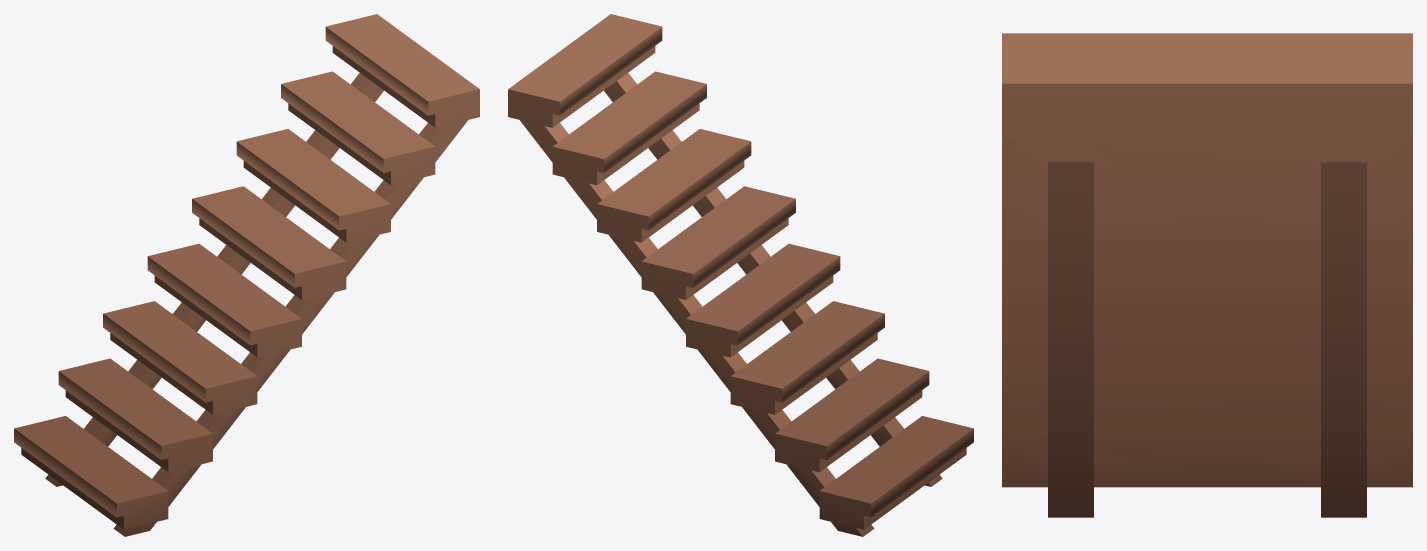
File: stairs-wood.glb
3 renders of one model, left to right at view 1: azimuth 30°, elevation 25°; view 2: azimuth 150°, elevation 25°; view 3: azimuth 270°, elevation 25°, orthographic. The views are drawn at different scales.
Parts seen in each view (by area): view 1: stairs-wood; view 2: stairs-wood; view 3: stairs-wood.
Boxes of the visible parts, <box> form: stairs-wood: <box>14,14,479,536</box>; stairs-wood: <box>508,14,973,536</box>; stairs-wood: <box>1002,33,1412,517</box>.
Size of the model in its own units: 3.06 by 3 by 1.5.
